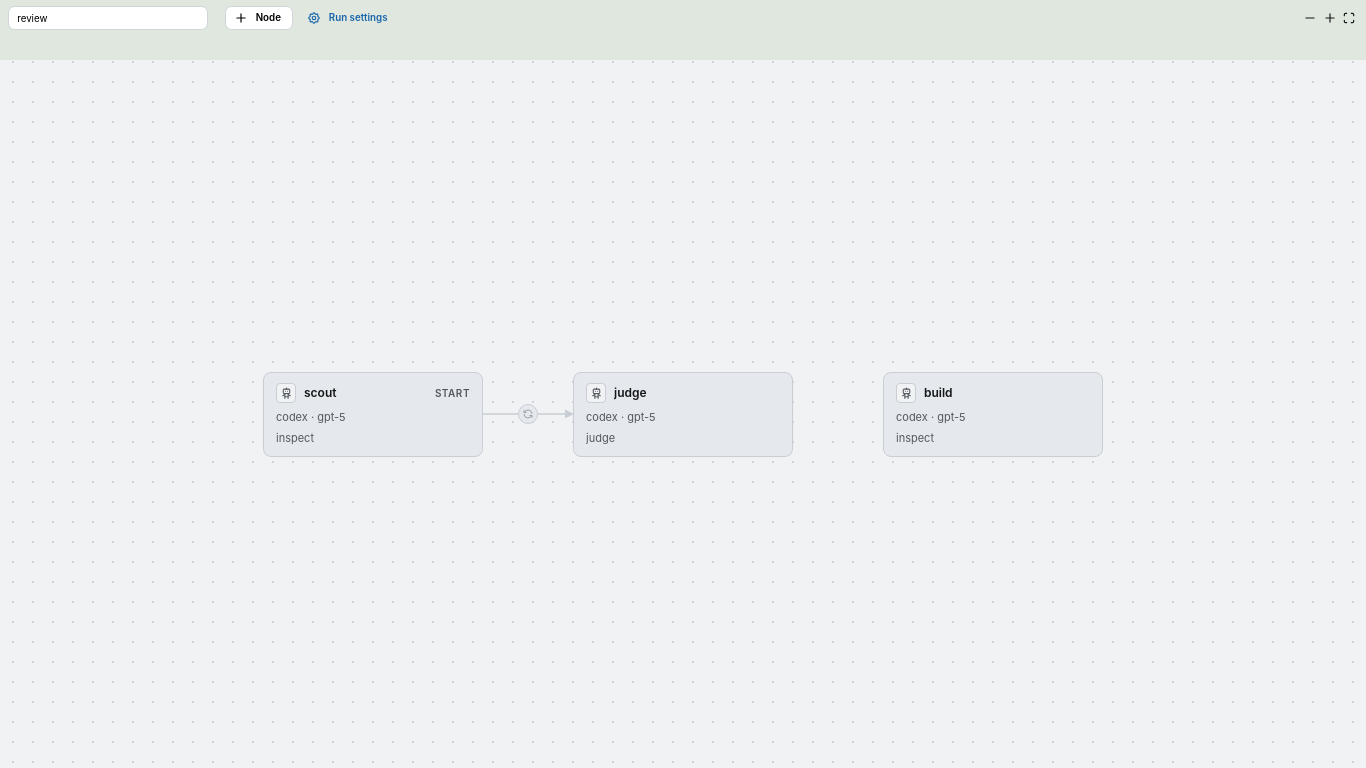
ChainCanvas — external Playbook edits › reloads a clean canvas and preserves an unsaved draft
Expected: the button with test id "chain-node-scout" is shown, [263, 372, 483, 457]
Expected: the button with test id "chain-node-build" is shown, [883, 372, 1103, 457]
Click the button "Node".
click(259, 18)  # box [225, 6, 293, 30]
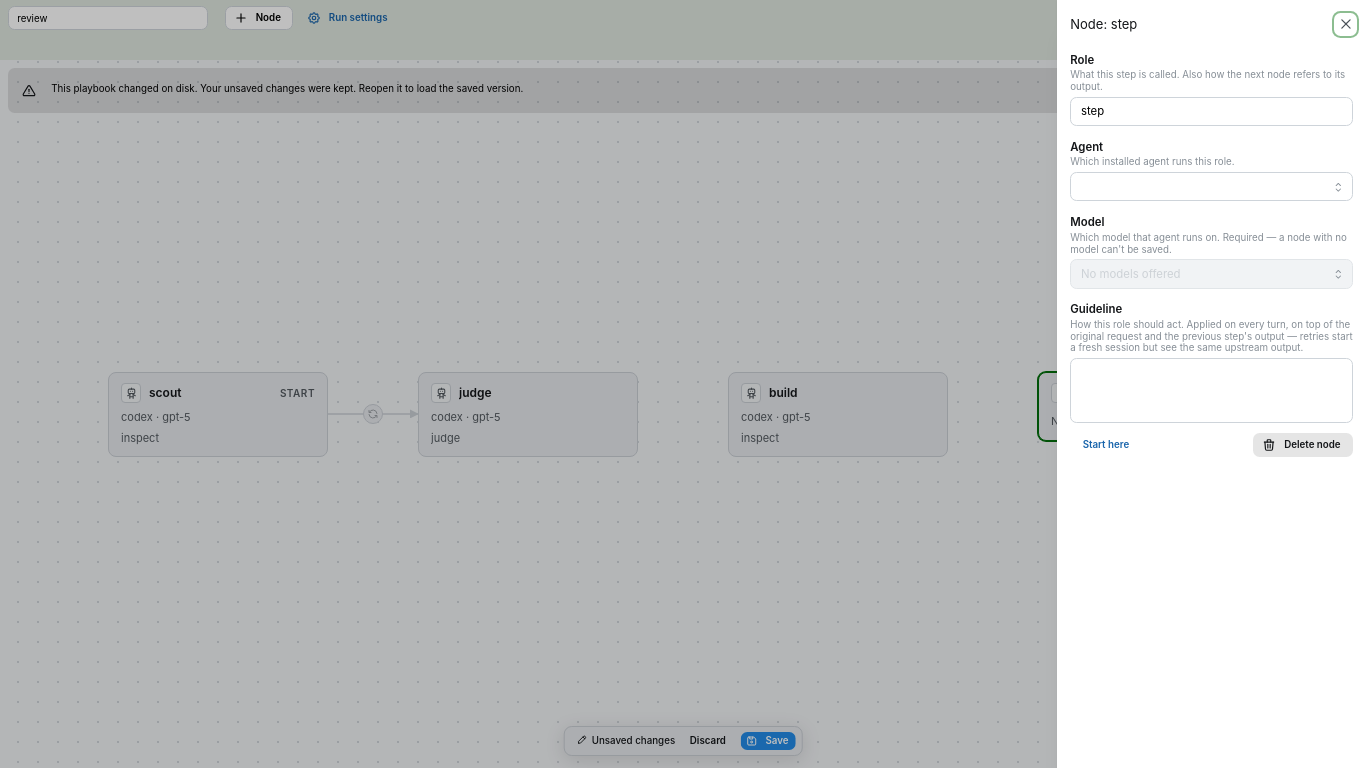
Expected: the text "changed on disk" is shown, [51, 83, 523, 94]
